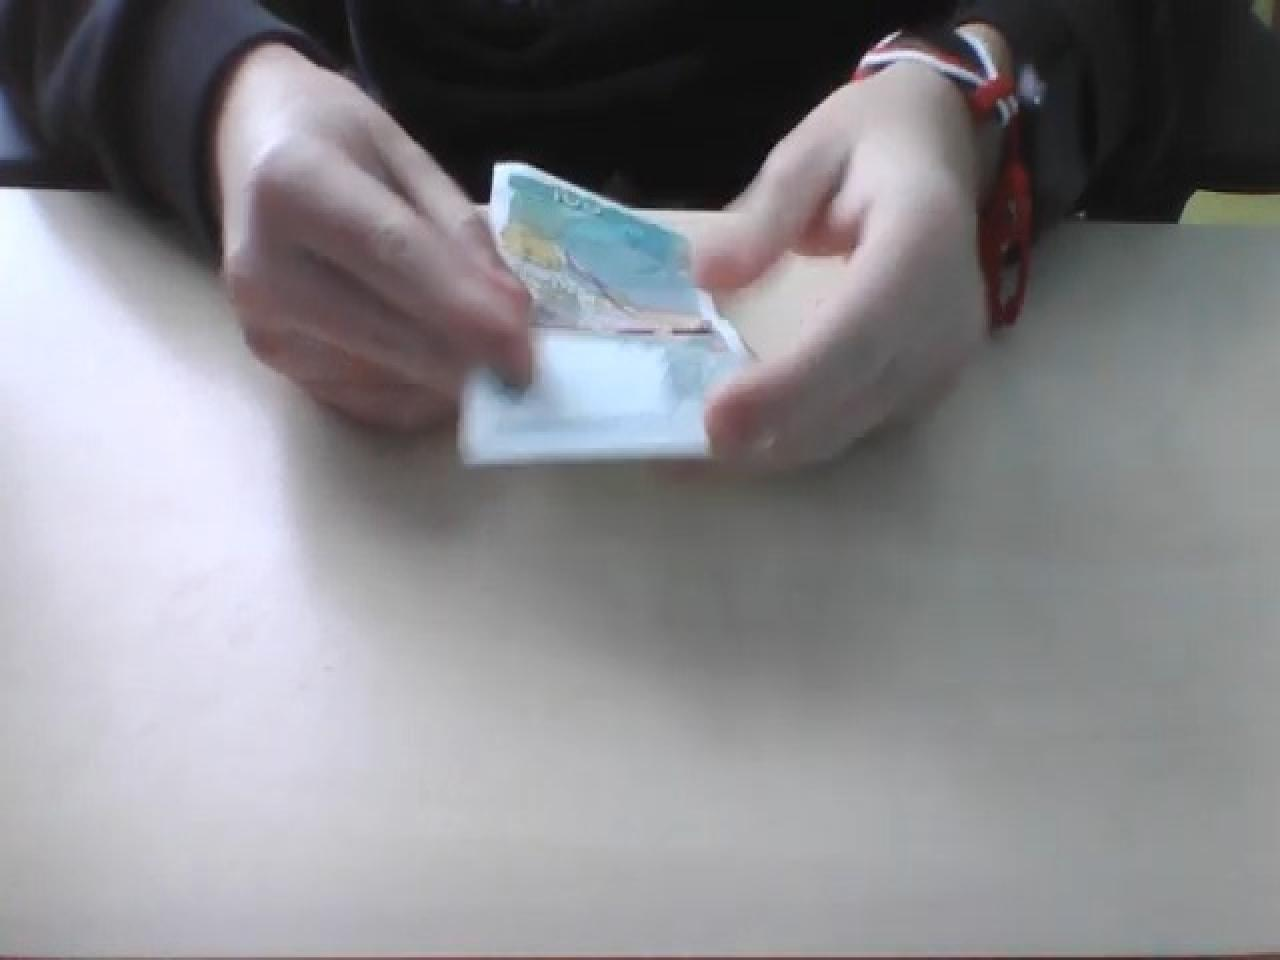100leva: (454, 154, 758, 469)
